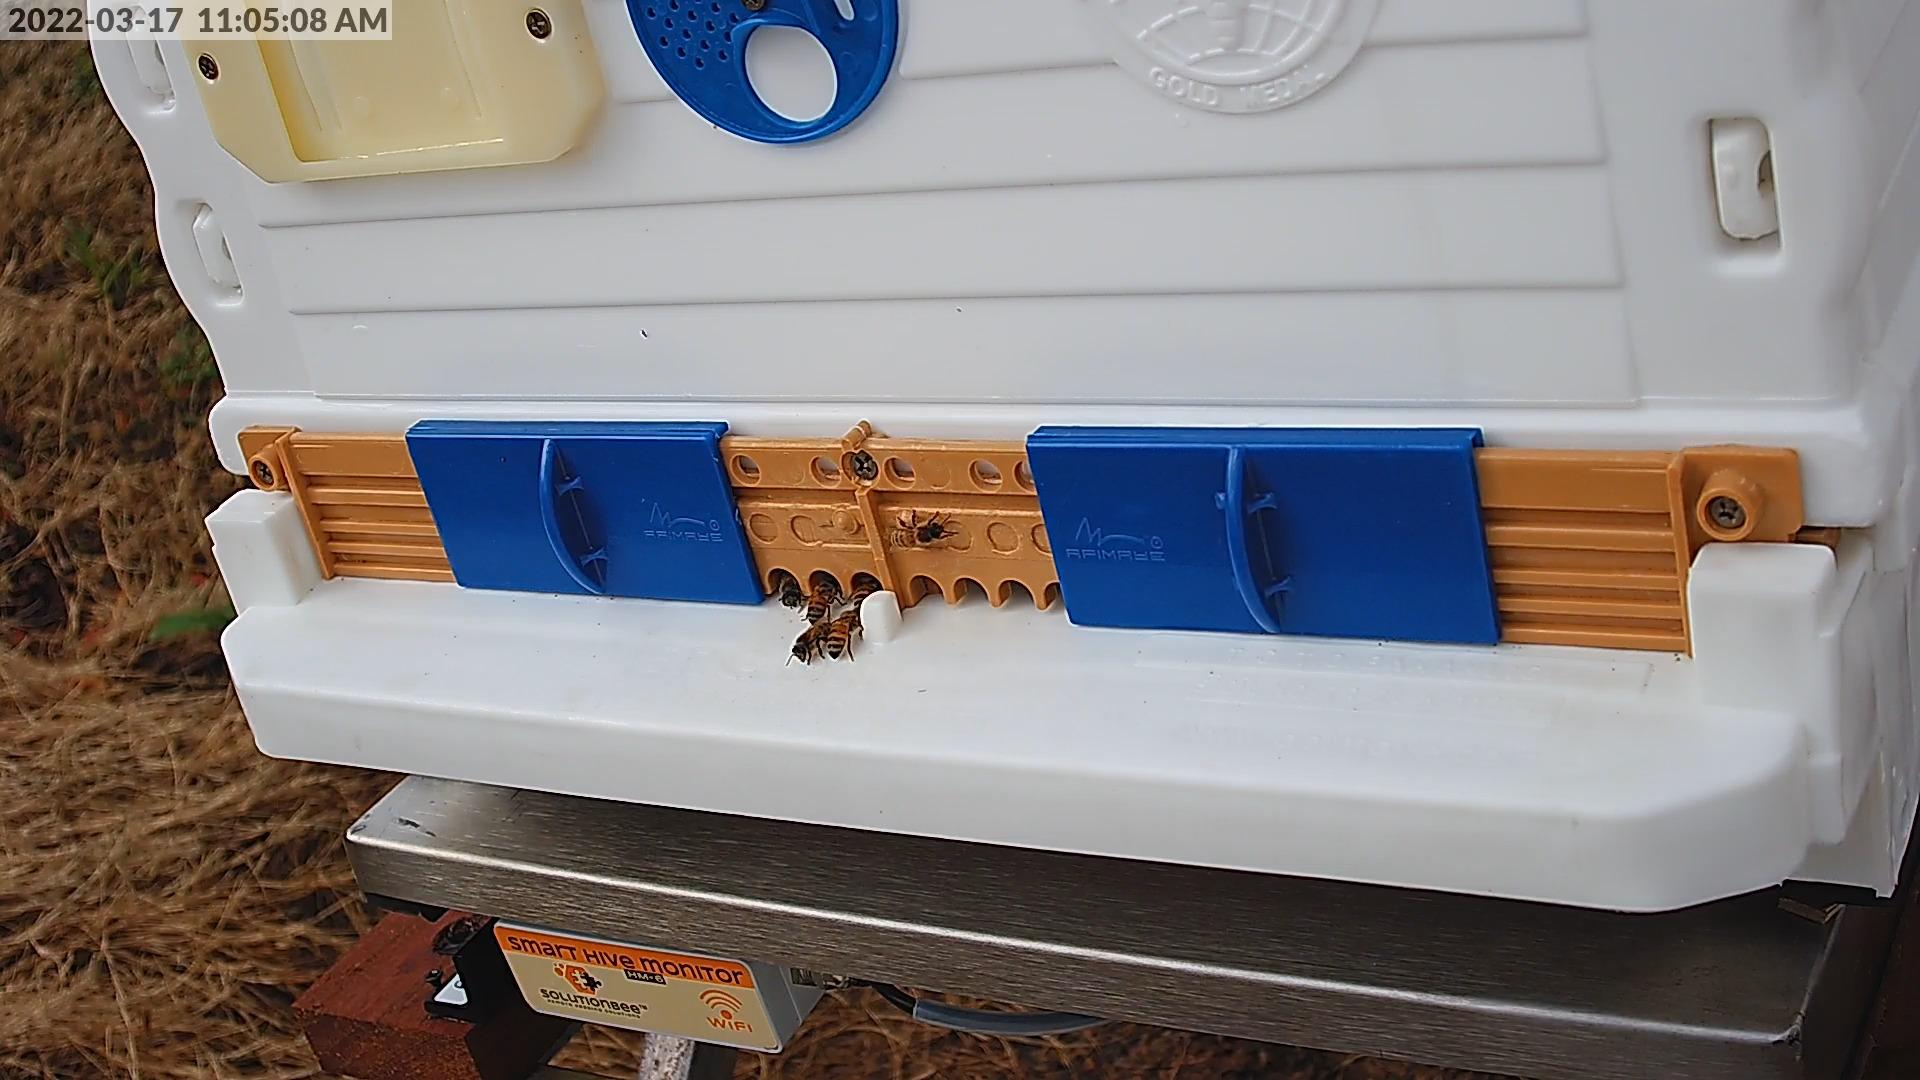bee: (886, 520, 948, 551), (824, 611, 858, 658), (790, 624, 832, 662), (806, 578, 840, 622), (775, 564, 800, 605), (852, 578, 877, 616)
